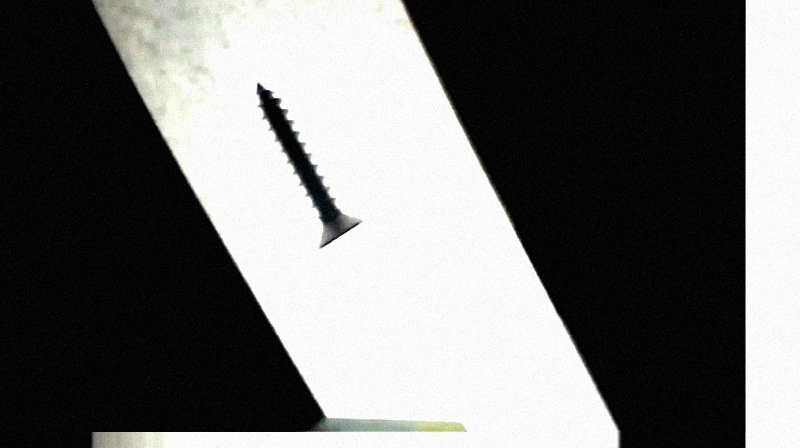S001: (248, 80, 367, 252)
